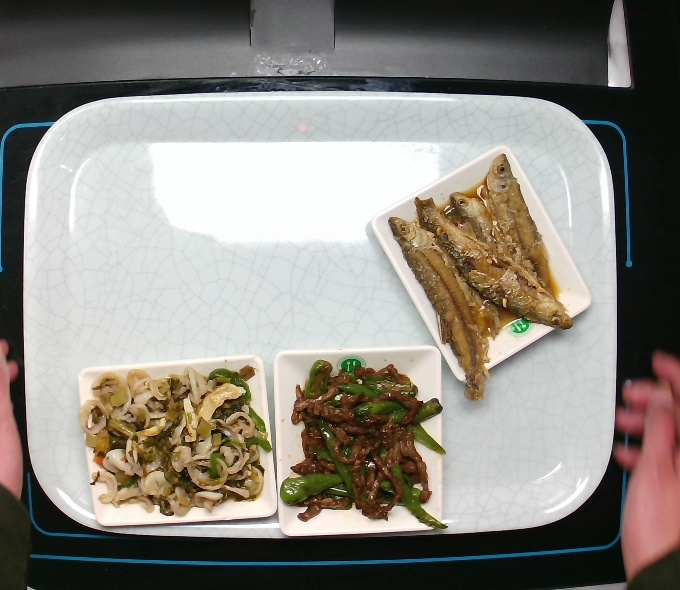wcq-QingJiaoNiuRou: (280, 353, 445, 526)
wcq-XiaoXiYu: (383, 145, 573, 406)
wcq-XueCaiYouYu: (75, 366, 278, 522)
